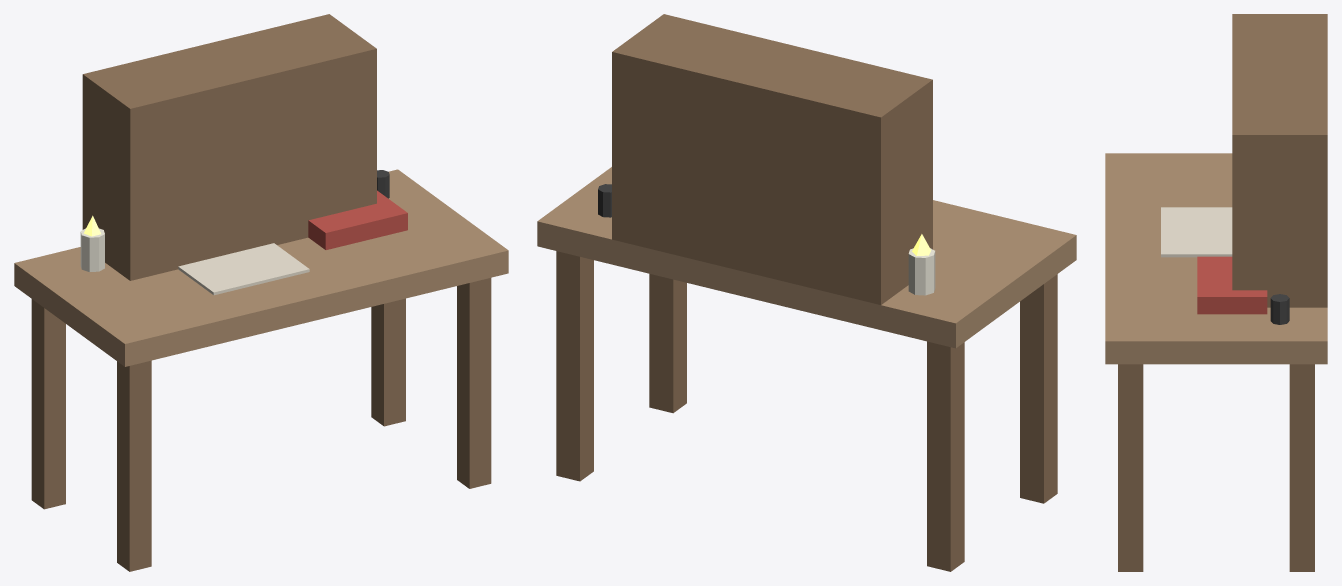
The model's file is writing_desk.glb.
3 renders of one model, left to right at view 1: azimuth 30°, elevation 25°; view 2: azimuth 150°, elevation 25°; view 3: azimuth 270°, elevation 25°, orthographic. The views are drawn at different scales.
Visible parts, largest first — view 1: writing_desk; view 2: writing_desk; view 3: writing_desk.
Boxes of the visible parts, x1=… form: writing_desk: x1=14, y1=14, x2=508, y2=571; writing_desk: x1=537, y1=14, x2=1076, y2=571; writing_desk: x1=1105, y1=14, x2=1327, y2=571.
Bounding box in the file's own units: 1.4 × 1.42 × 0.7.
